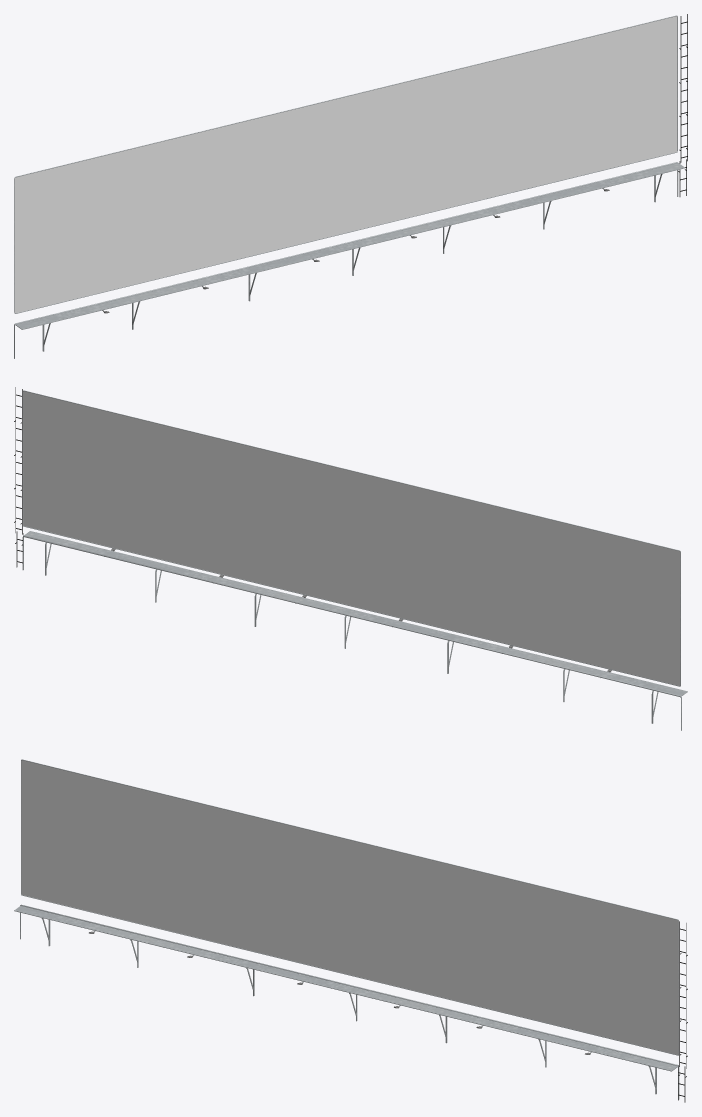
Rendered from Classic_City_Skraper_Billboard.fbx.
3 renders of one model, top to bottom at view 1: azimuth 30°, elevation 25°; view 2: azimuth 150°, elevation 25°; view 3: azimuth 330°, elevation 25°, orthographic.
Parts seen in each view (by area): view 1: Classic_City_Skraper_Billboard_Ad001, Classic_City_Skraper_Billboard_Frame, Classic_City_Skraper_Billboard_Ladder; view 2: Classic_City_Skraper_Billboard_AdBacker, Classic_City_Skraper_Billboard_Frame, Classic_City_Skraper_Billboard_Ladder; view 3: Classic_City_Skraper_Billboard_Ad001, Classic_City_Skraper_Billboard_Frame, Classic_City_Skraper_Billboard_Ladder.
Part boxes in pixels (x1=…): Classic_City_Skraper_Billboard_Ad001: x1=15, y1=16, x2=677, y2=313; Classic_City_Skraper_Billboard_Frame: x1=14, y1=15, x2=684, y2=358; Classic_City_Skraper_Billboard_Ladder: x1=678, y1=14, x2=687, y2=196; Classic_City_Skraper_Billboard_AdBacker: x1=23, y1=391, x2=680, y2=685; Classic_City_Skraper_Billboard_Frame: x1=22, y1=390, x2=687, y2=730; Classic_City_Skraper_Billboard_Ladder: x1=14, y1=387, x2=23, y2=567; Classic_City_Skraper_Billboard_Ad001: x1=21, y1=760, x2=678, y2=1054; Classic_City_Skraper_Billboard_Frame: x1=14, y1=759, x2=679, y2=1099; Classic_City_Skraper_Billboard_Ladder: x1=678, y1=921, x2=687, y2=1102.
Bounding box in the file's own units: 97.08 × 25.02 × 3.08.
6 materials, 2 textured.
